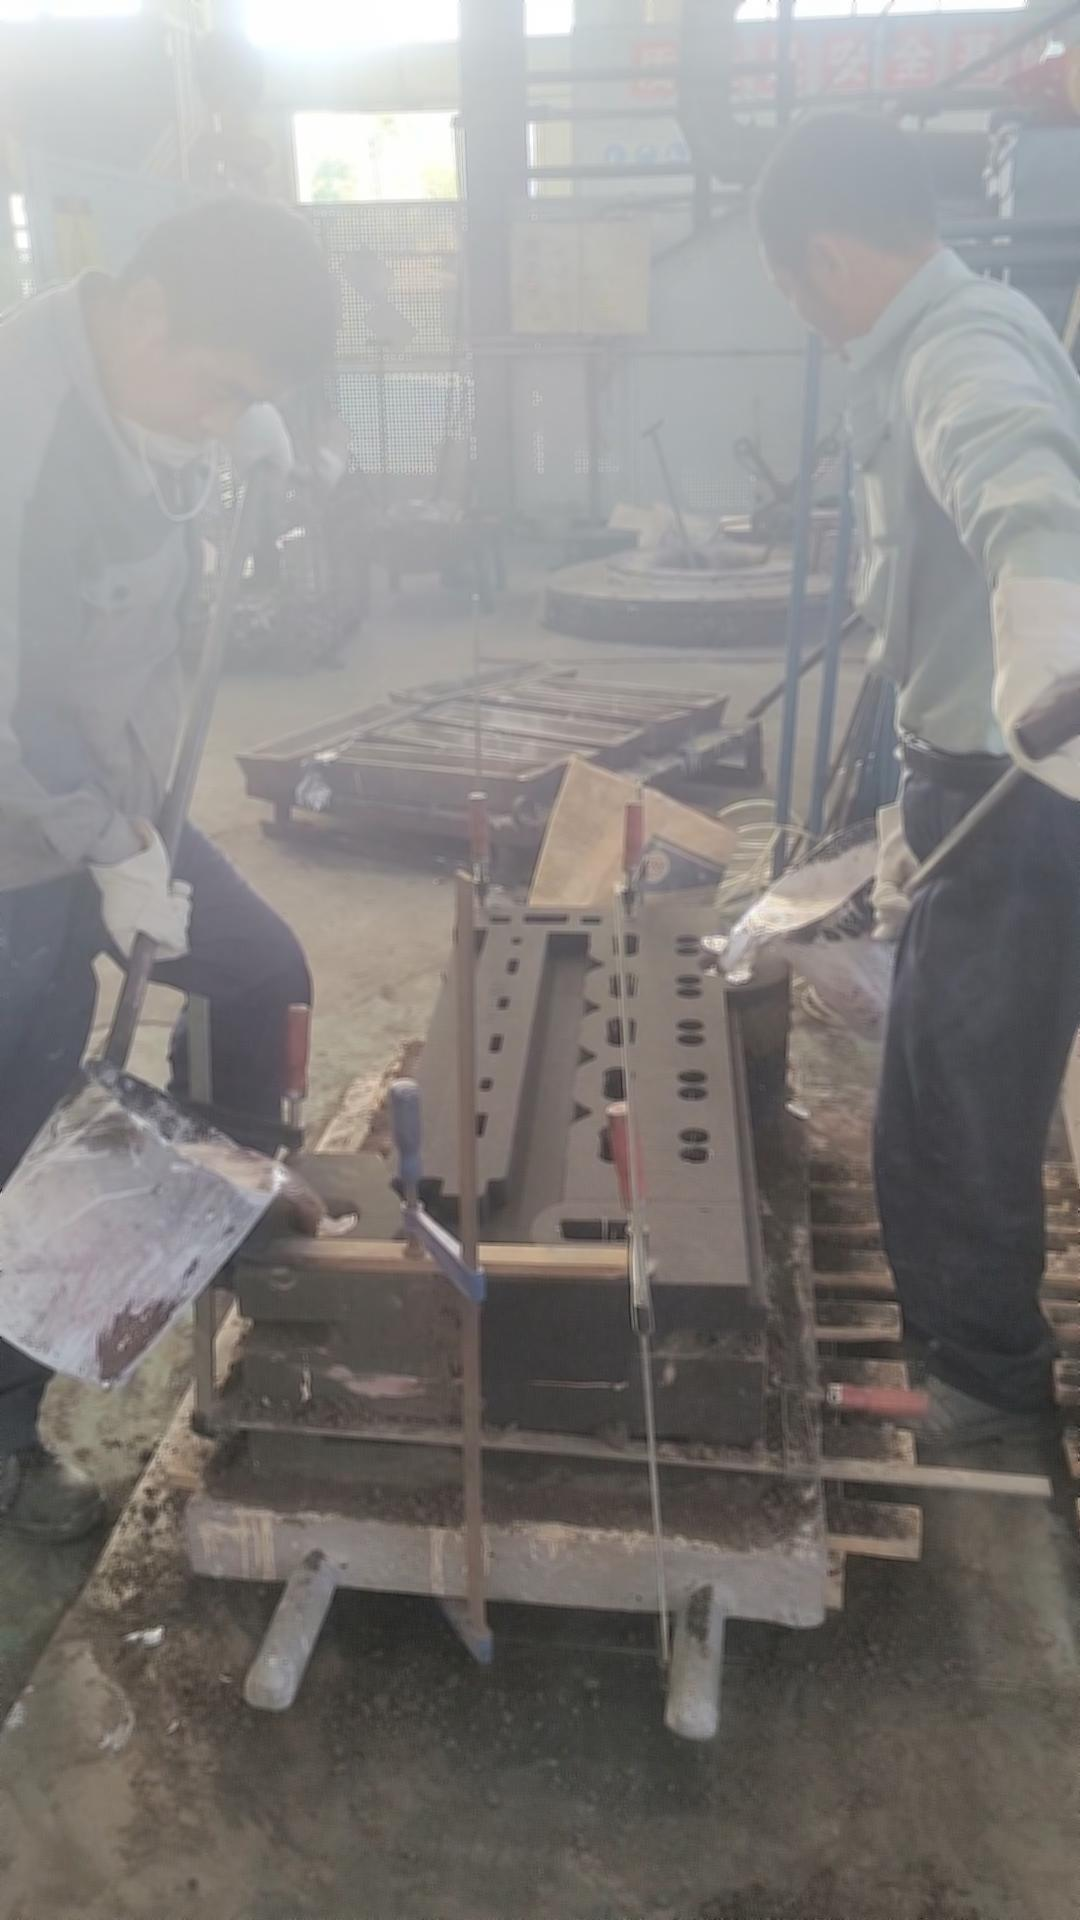pouring hole: (286, 1199, 361, 1240), (702, 953, 754, 982)
